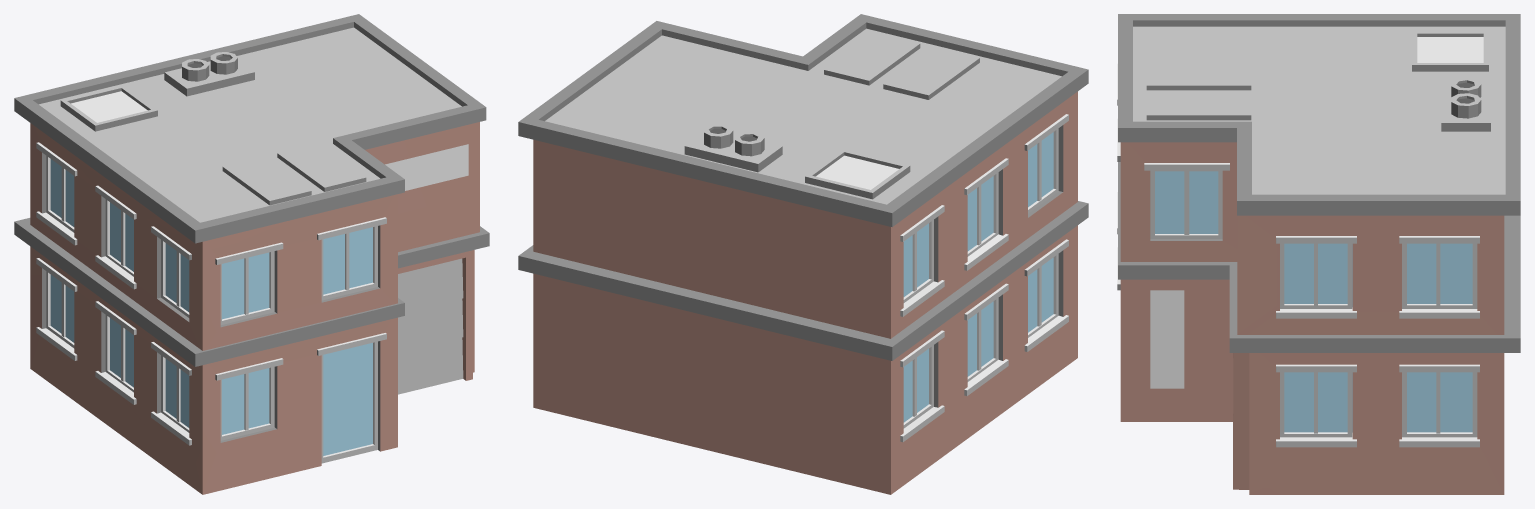
Rendered from house_purpose_010.fbx.
3 renders of one model, left to right at view 1: azimuth 30°, elevation 25°; view 2: azimuth 150°, elevation 25°; view 3: azimuth 270°, elevation 25°, orthographic. The views are drawn at different scales.
Visible parts, largest first — view 1: house_purpose_010; view 2: house_purpose_010; view 3: house_purpose_010.
Part boxes in pixels (x1,y1,x2,y2): house_purpose_010: (14,14,489,494); house_purpose_010: (518,14,1088,494); house_purpose_010: (1117,14,1520,494).
Size of the model in its own units: 794 by 617 by 723.
